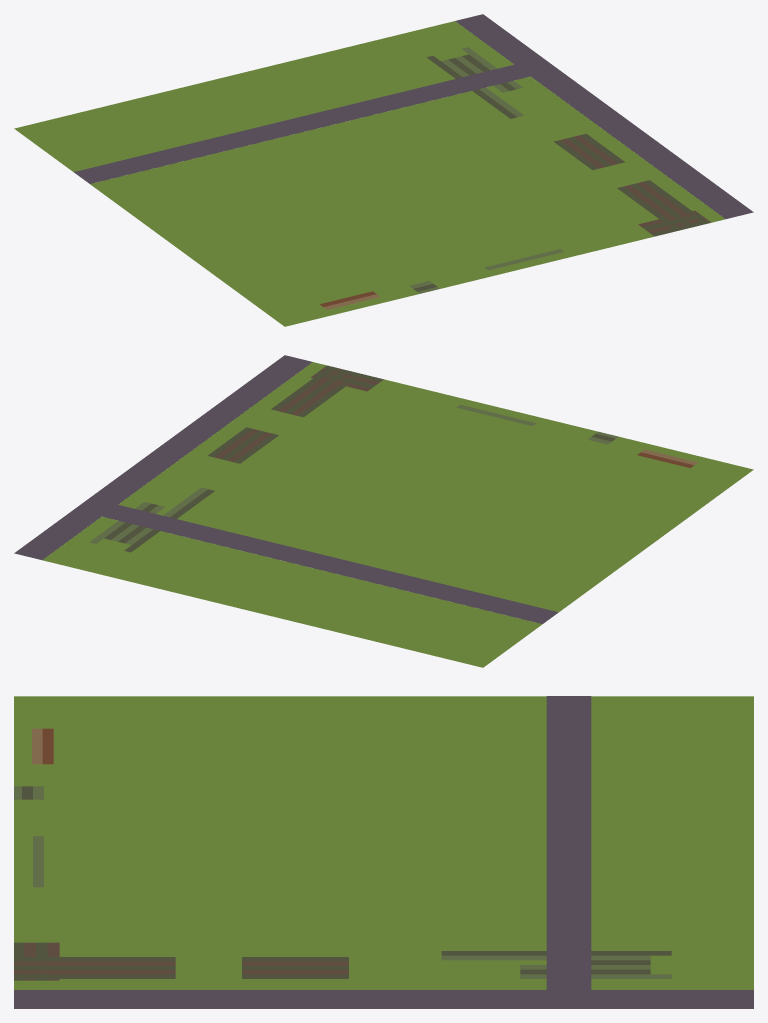
The model's file is cure-18-2.glb.
3 views of the same model, one above another, from view 1: azimuth 30°, elevation 25°; view 2: azimuth 150°, elevation 25°; view 3: azimuth 270°, elevation 25° (orthographic). The views are drawn at different scales.
Parts seen in each view (by area): view 1: cure-18-2; view 2: cure-18-2; view 3: cure-18-2.
Part boxes in pixels (left/top/right/bottom): cure-18-2: left=14, top=14, right=753, bottom=326; cure-18-2: left=14, top=355, right=753, bottom=667; cure-18-2: left=14, top=696, right=753, bottom=1008.
Bounding box in the file's own units: 100 × 0.008 × 100.
